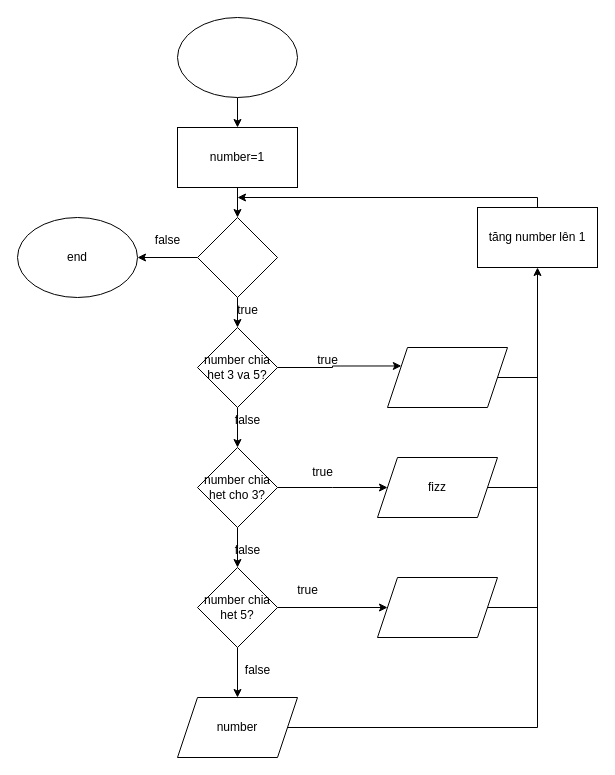
The diagram is 615 pixels wide and 775 high, and some of its shapes have lost their labels. Each missing label, with the centre of its shape:
"buzz" belongs at [437,607].
"fizzbuzz" belongs at [447,377].
"number<100?" belongs at [237,257].
"start" belongs at [237,57].
